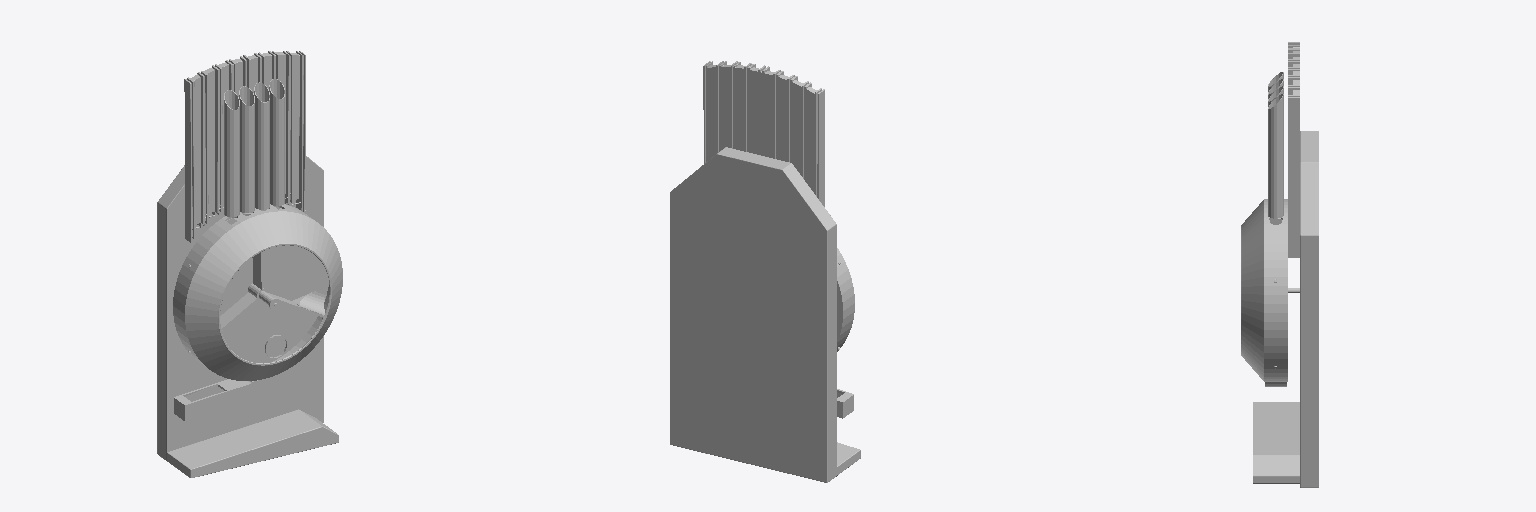
File: roller.obj
3 renders of one model, left to right at view 1: azimuth 30°, elevation 25°; view 2: azimuth 150°, elevation 25°; view 3: azimuth 270°, elevation 25°, orthographic.
Visible parts, largest first — view 1: Body_Mesh.002, Volum_Base_Glass_Mesh, export_Glass_Mesh.018, Import_glass_Mesh.007, Import_glass002_Mesh.040, Import_glass003_Mesh.051, Import_glass001_Mesh.029, Rotary_Glass_Mesh.003; view 2: Body_Mesh.002, Volum_Base_Glass_Mesh; view 3: Body_Mesh.002, Volum_Base_Glass_Mesh, Import_glass003_Mesh.051.
Part boxes in pixels (x1,y1,x2,y2): Body_Mesh.002: (157,51,338,477); Volum_Base_Glass_Mesh: (173,204,342,380); export_Glass_Mesh.018: (174,378,267,420); Import_glass_Mesh.007: (224,90,239,216); Import_glass002_Mesh.040: (254,82,269,209); Import_glass003_Mesh.051: (269,79,284,205); Import_glass001_Mesh.029: (239,86,254,212); Rotary_Glass_Mesh.003: (220,213,325,330); Body_Mesh.002: (670,61,860,482); Volum_Base_Glass_Mesh: (837,248,854,351); Body_Mesh.002: (1253,42,1318,487); Volum_Base_Glass_Mesh: (1241,199,1287,381); Import_glass003_Mesh.051: (1268,94,1283,218).
Size of the model in its own units: 76.63 by 179 by 32.99.